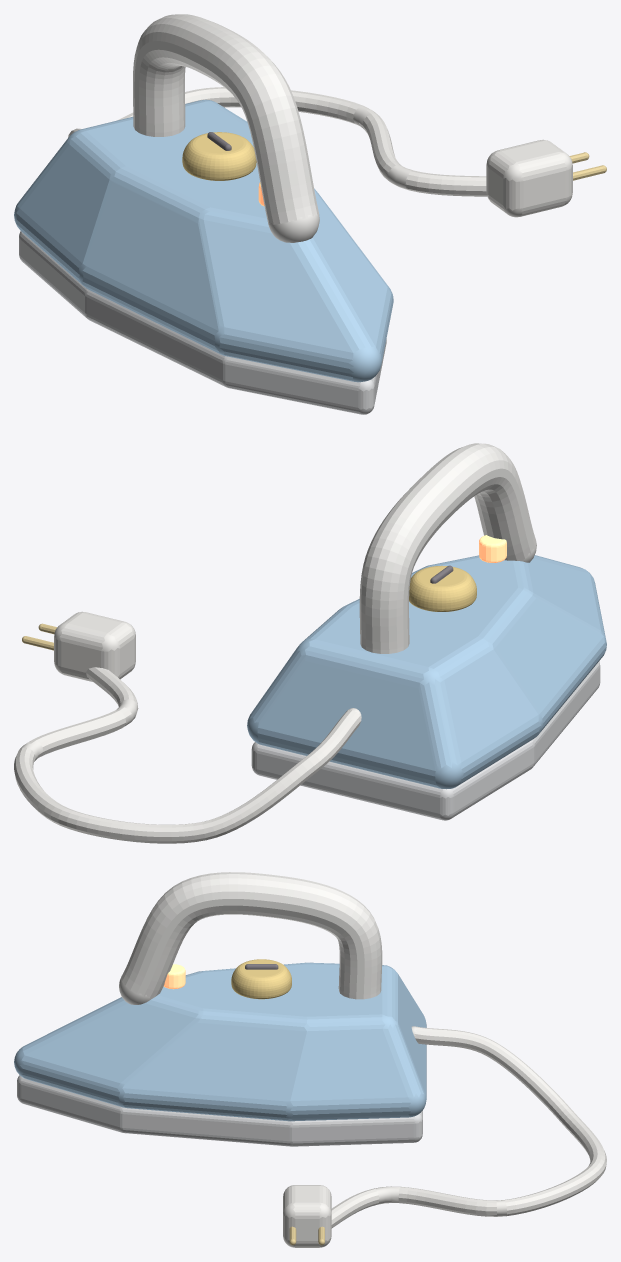
The model's file is iron.glb.
3 views of the same model, one above another, from view 1: azimuth 30°, elevation 25°; view 2: azimuth 150°, elevation 25°; view 3: azimuth 270°, elevation 25° (orthographic). The views are drawn at different scales.
Visible parts, largest first — view 1: Iron_Body, Iron_Handle, Iron_Sole, Iron_Cord, Iron_Plug_Body, Iron_Dial_Knob; view 2: Iron_Body, Iron_Handle, Iron_Cord, Iron_Sole, Iron_Plug_Body, Iron_Dial_Knob, Iron_Light; view 3: Iron_Body, Iron_Handle, Iron_Sole, Iron_Cord, Iron_Plug_Body, Iron_Dial_Knob.
Boxes of the visible parts, x1=… form: Iron_Body: x1=14, y1=99, x2=393, y2=382; Iron_Handle: x1=133, y1=14, x2=319, y2=242; Iron_Sole: x1=19, y1=231, x2=386, y2=414; Iron_Cord: x1=68, y1=87, x2=487, y2=196; Iron_Plug_Body: x1=486, y1=139, x2=572, y2=217; Iron_Dial_Knob: x1=182, y1=132, x2=256, y2=180; Iron_Body: x1=247, y1=555, x2=606, y2=789; Iron_Handle: x1=359, y1=443, x2=536, y2=653; Iron_Cord: x1=14, y1=667, x2=361, y2=843; Iron_Sole: x1=251, y1=661, x2=600, y2=820; Iron_Plug_Body: x1=54, y1=611, x2=135, y2=681; Iron_Dial_Knob: x1=409, y1=565, x2=476, y2=611; Iron_Light: x1=479, y1=535, x2=506, y2=562; Iron_Body: x1=14, y1=962, x2=426, y2=1121; Iron_Handle: x1=119, y1=872, x2=382, y2=1004; Iron_Sole: x1=17, y1=1075, x2=422, y2=1146; Iron_Cord: x1=331, y1=1026, x2=606, y2=1228; Iron_Plug_Body: x1=283, y1=1185, x2=331, y2=1247; Iron_Dial_Knob: x1=231, y1=959, x2=291, y2=999.
Size of the model in its own units: 0.3282 by 0.1665 by 0.39.
